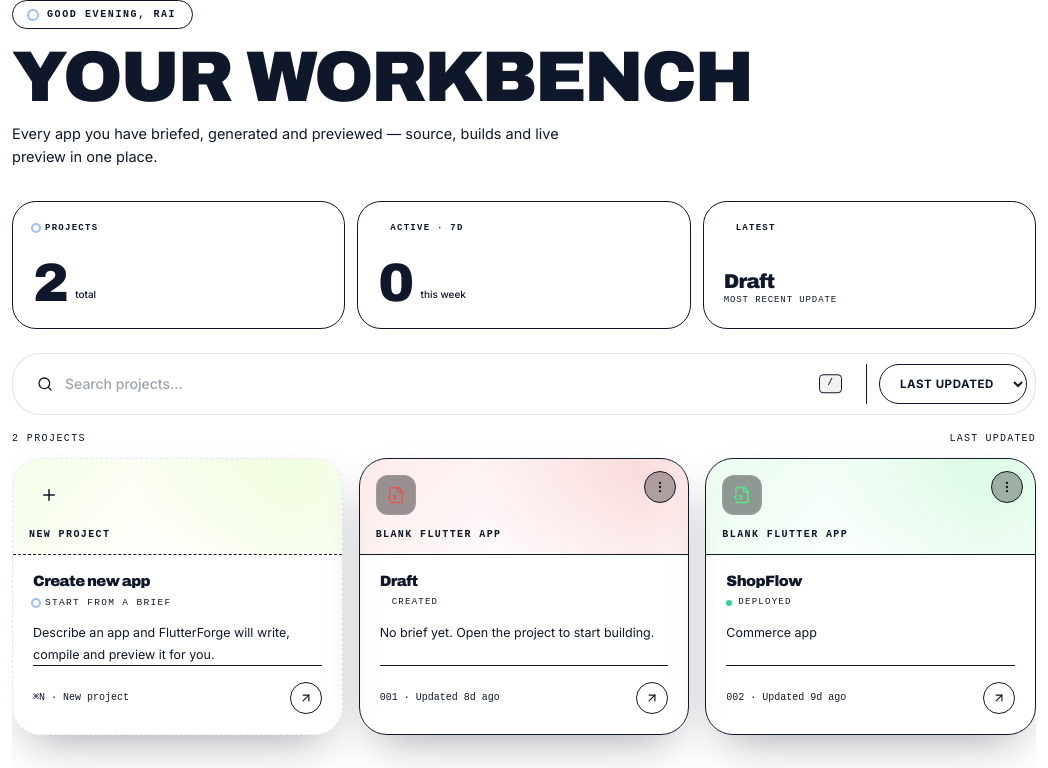
ProjectsSection create card › keeps the create card out of active search results
The image size is (1048, 768).
Step 1. Type "Shop" into the field labelled "Search projects" → (440, 384), box [21,362,858,406]
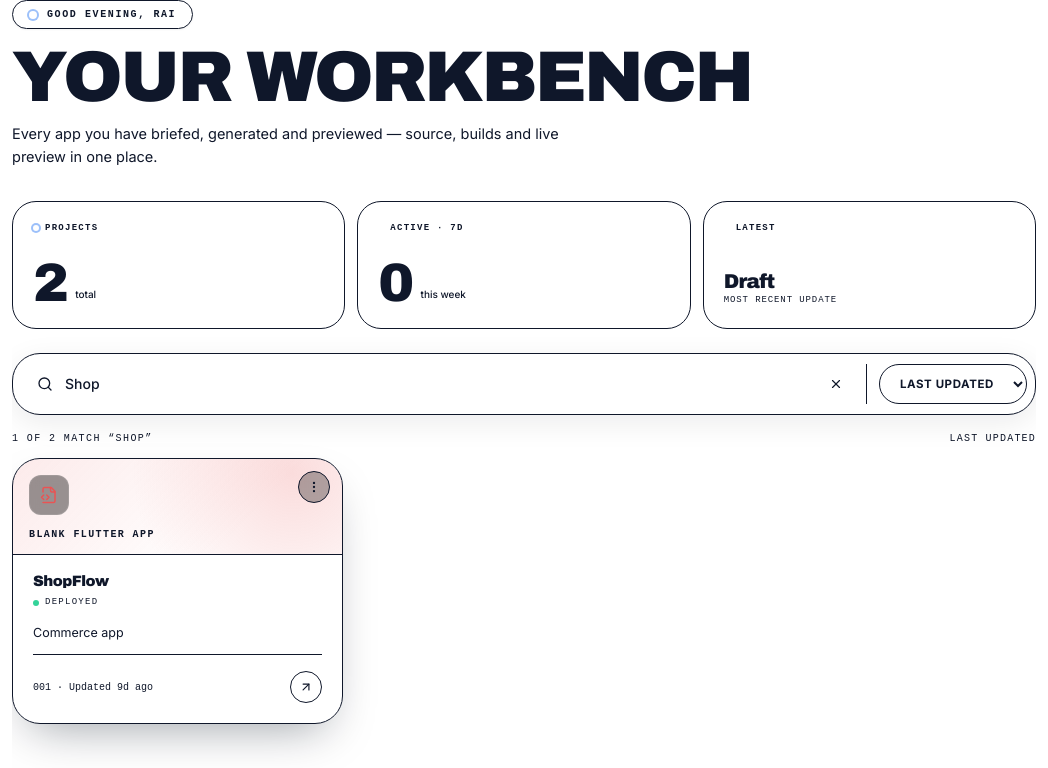
Expected: the heading "ShopFlow" is shown, [33,575,109,588]
Now the button "Create new app" is gone
